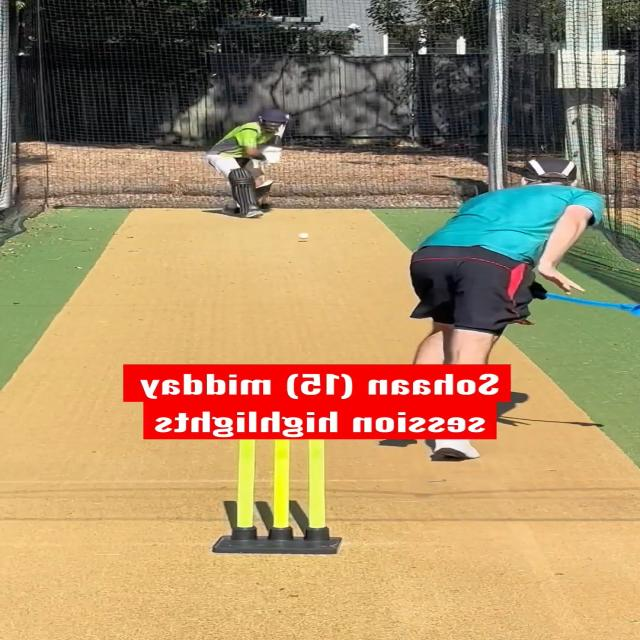ball: (297, 232, 310, 240)
stump: (210, 436, 339, 554)
